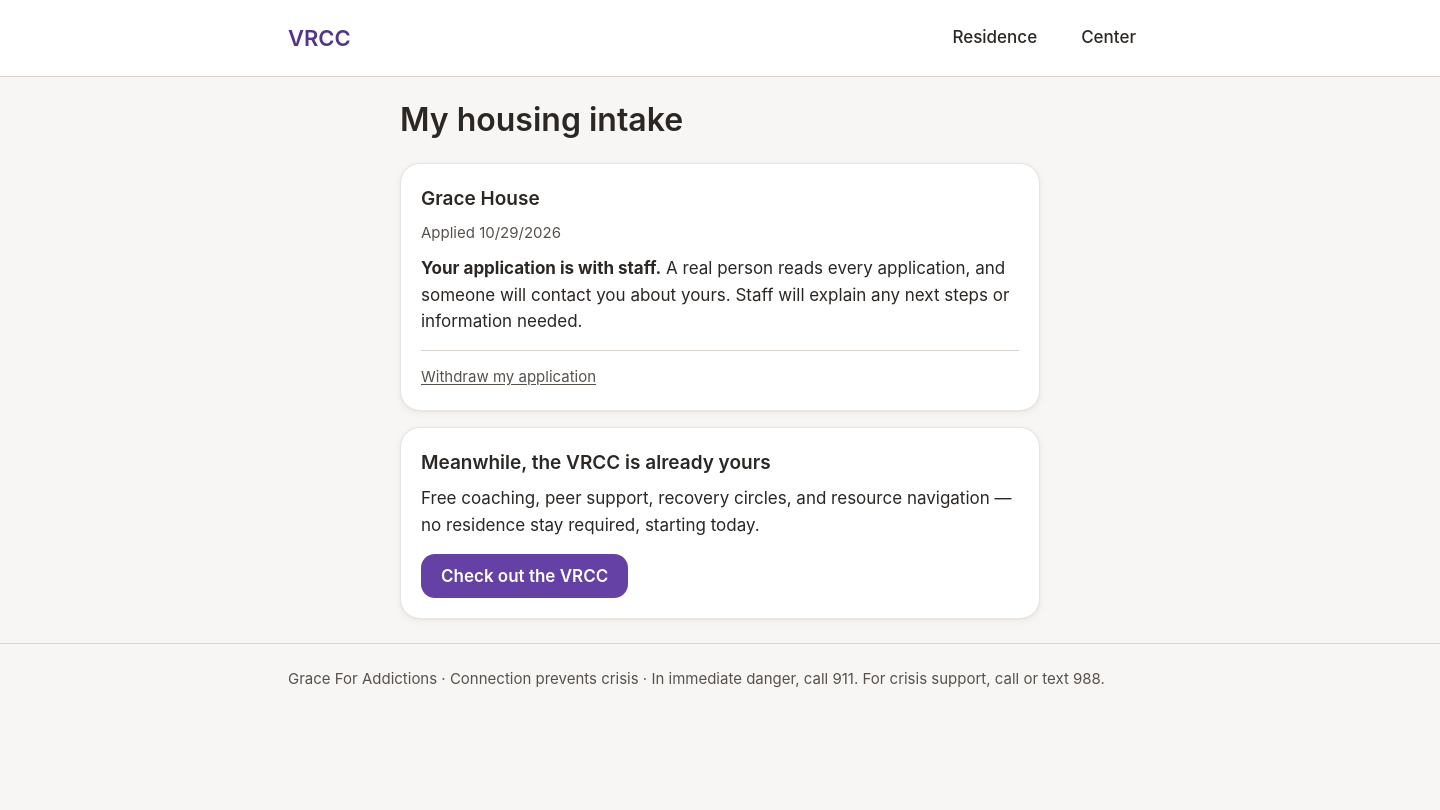
Scenario: MyApplicationPage withdraw › offers withdrawal on an open application, behind a confirm step
The width and height of the screenshot is (1440, 810).
Click the button "Withdraw my application" at coordinates (509, 377), box [421,366,596,388]
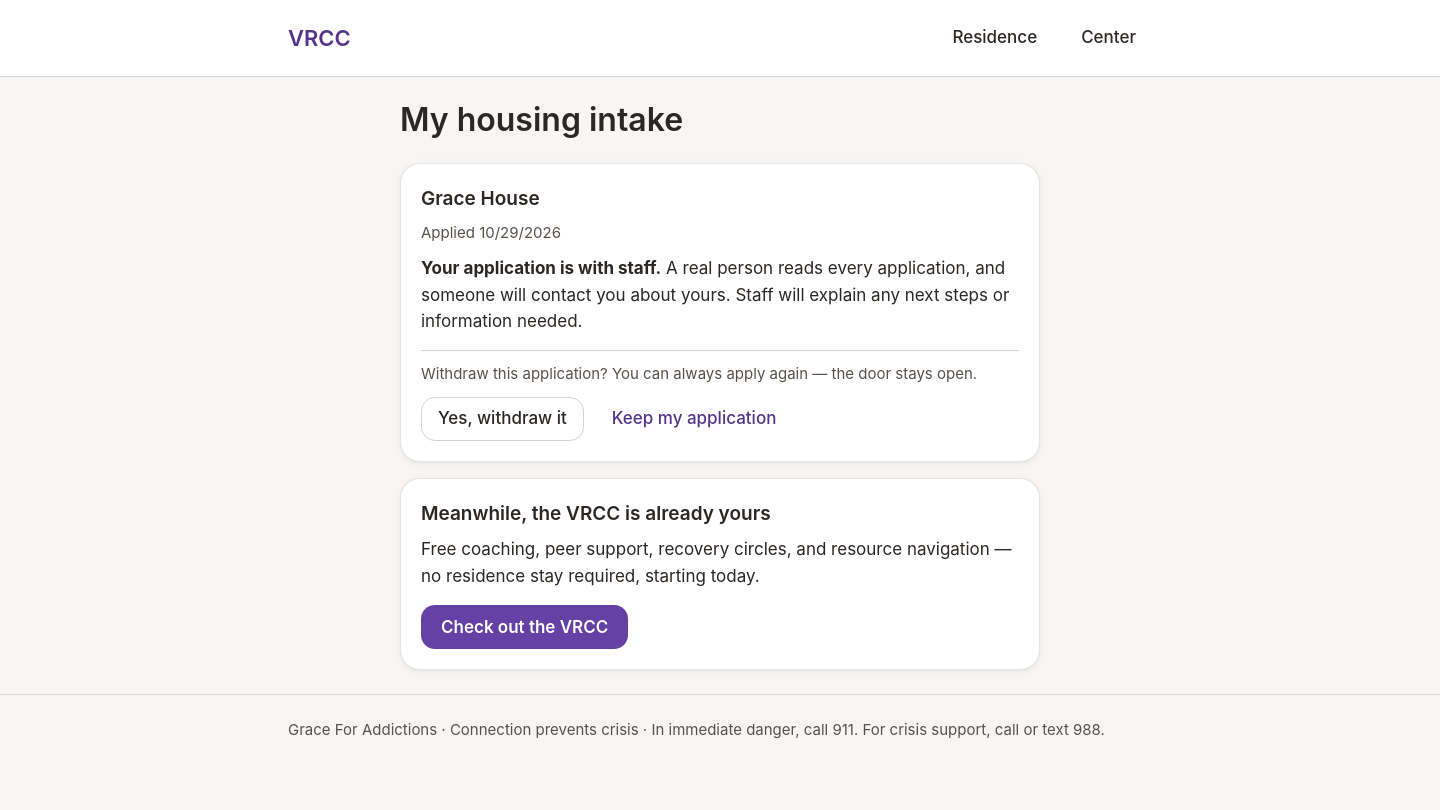
Expected: the text "the door stays open" is shown, [421,364,977,383]
Click the button "Yes, withdraw it" at coordinates (502, 419), box [421,397,584,441]
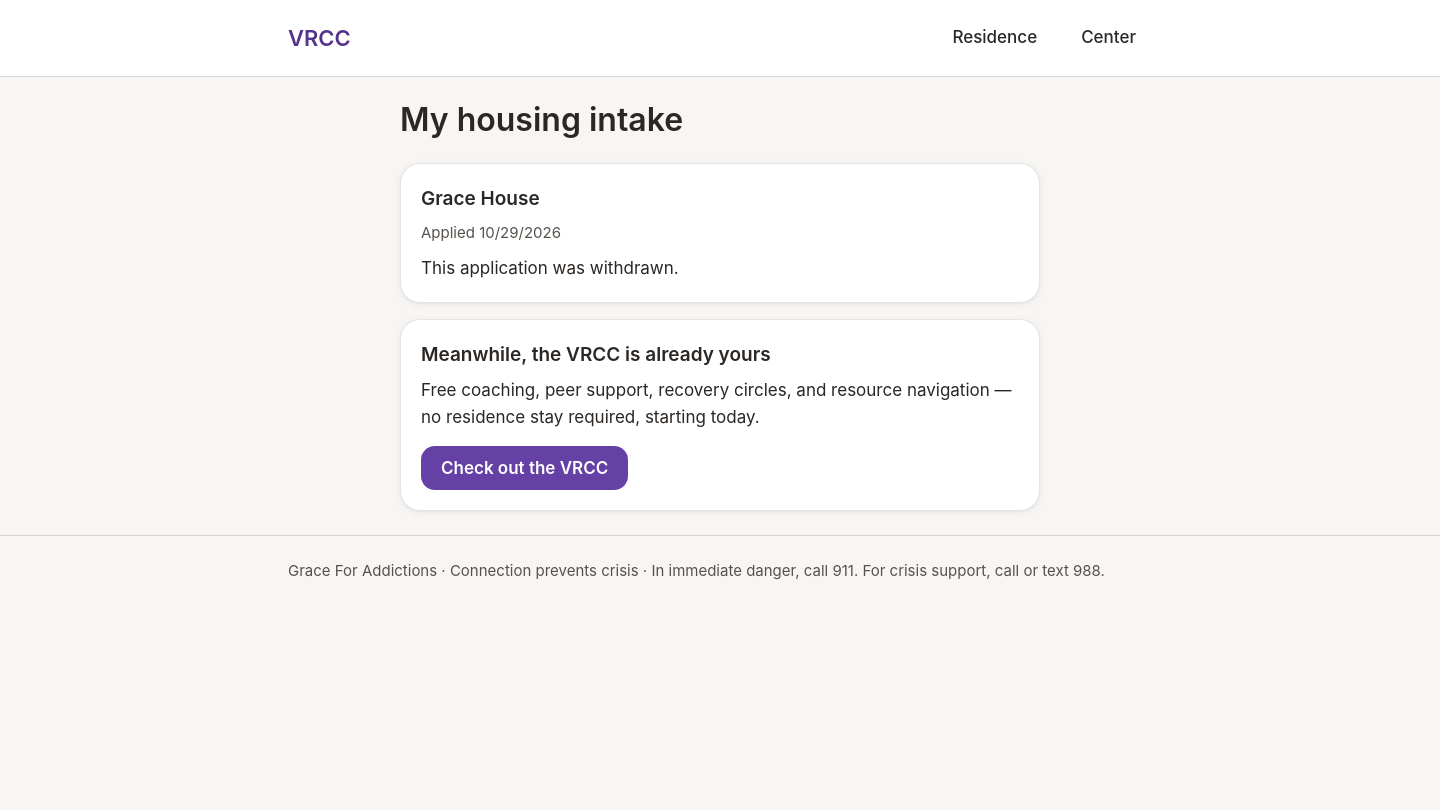
Expected: the text "This application was withdrawn." is shown, [421,258,679,278]
